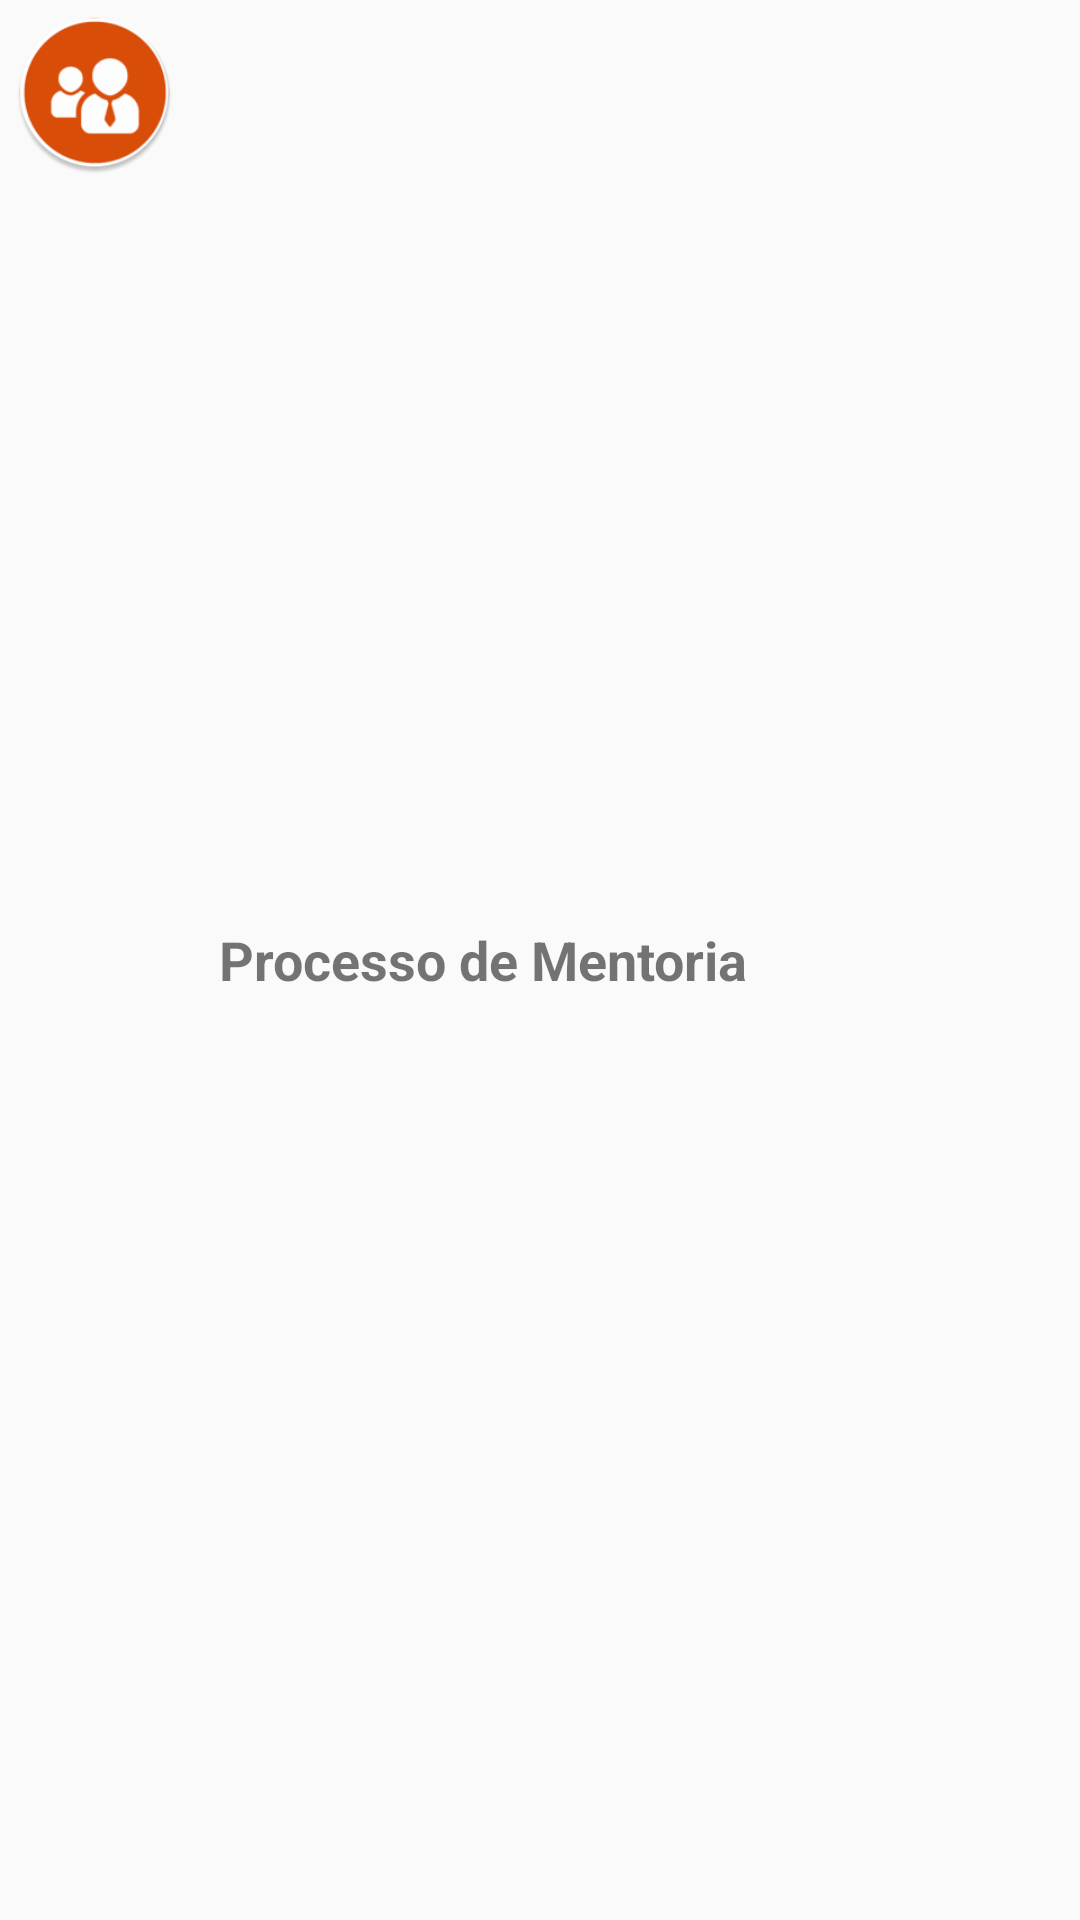

Icons on this 1080 x 1920 Android screen, each with the point to tap as point (x, y):
mentoring: point (94, 94)
